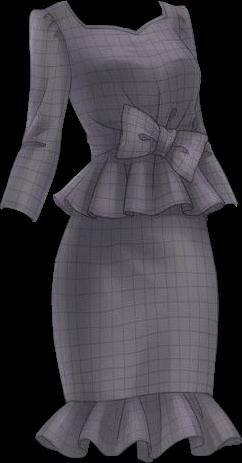Bodice: (46, 0, 201, 156)
Hemline: (38, 433, 241, 462), (51, 194, 225, 222)
Skirt: (35, 150, 241, 461)
Sleeve: (1, 7, 71, 221)
Sleeveline: (44, 8, 72, 98)
Waistline: (66, 390, 212, 406), (92, 148, 180, 161)
